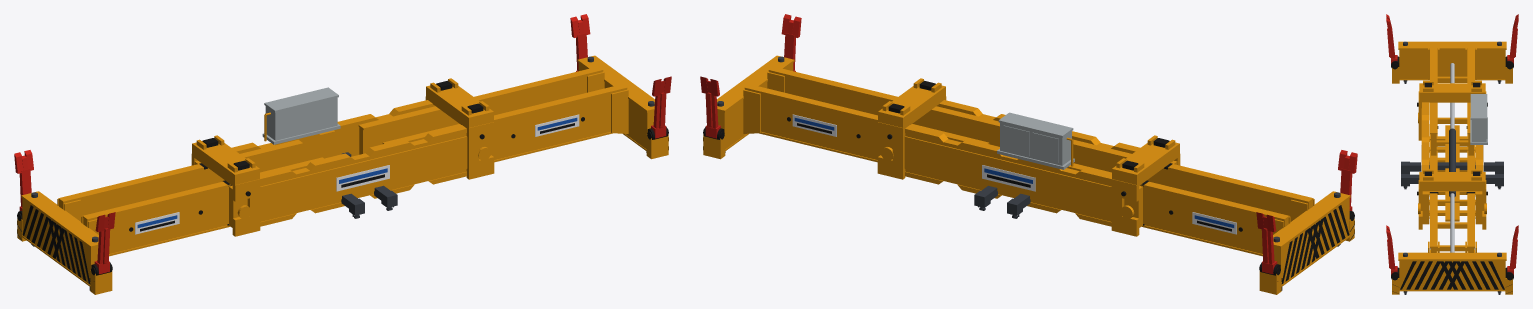
Rendered from STS_Spreader_40ft_Master.obj.
The picture shows the model from 3 angles, left to right: view 1: azimuth 30°, elevation 25°; view 2: azimuth 150°, elevation 25°; view 3: azimuth 270°, elevation 25°; orthographic projection. The views are drawn at different scales.
Parts seen in each view (by area): view 1: 01_Main_Center_Frame, 05_Telescopic_Arm_Right, 05_Telescopic_Arm_Left, 06_End_Beam_Left, 06_End_Beam_Right, 04_Hydraulic_Electrical_Cabinet, 07_Hazard_Stripes_Left, 11_Nameplates_White, 03_WearPads_And_Guides, 10_Red_Flipper_R_Front, 10_Red_Flipper_L_Front, 02_TwinLift_Center_Module (+3 smaller); view 2: 01_Main_Center_Frame, 05_Telescopic_Arm_Left, 05_Telescopic_Arm_Right, 06_End_Beam_Left, 06_End_Beam_Right, 04_Hydraulic_Electrical_Cabinet, 07_Hazard_Stripes_Left, 11_Nameplates_White, 03_WearPads_And_Guides, 10_Red_Flipper_R_Back, 10_Red_Flipper_L_Back, 02_TwinLift_Center_Module (+3 smaller); view 3: 01_Main_Center_Frame, 06_End_Beam_Left, 06_End_Beam_Right, 05_Telescopic_Arm_Left, 05_Telescopic_Arm_Right, 07_Hazard_Stripes_Right, 02_TwinLift_Center_Module, 04_Hydraulic_Electrical_Cabinet, 02_TwinLift_Center_Rods, 10_Red_Flipper_R_Back, 10_Red_Flipper_R_Front, 10_Red_Flipper_L_Back (+3 smaller).
Boxes of the visible parts, x1,y1,x2,y2 form: 01_Main_Center_Frame: [191, 78, 494, 236]; 05_Telescopic_Arm_Right: [358, 66, 627, 162]; 05_Telescopic_Arm_Left: [58, 139, 323, 256]; 06_End_Beam_Left: [17, 191, 112, 294]; 06_End_Beam_Right: [577, 55, 668, 159]; 04_Hydraulic_Electrical_Cabinet: [262, 87, 340, 144]; 07_Hazard_Stripes_Left: [17, 205, 94, 290]; 11_Nameplates_White: [135, 114, 579, 234]; 03_WearPads_And_Guides: [129, 80, 584, 231]; 10_Red_Flipper_R_Front: [651, 76, 671, 138]; 10_Red_Flipper_L_Front: [94, 212, 115, 274]; 02_TwinLift_Center_Module: [341, 152, 397, 218]; 01_Main_Center_Frame: [877, 78, 1180, 236]; 05_Telescopic_Arm_Left: [1067, 139, 1313, 256]; 05_Telescopic_Arm_Right: [744, 66, 999, 162]; 06_End_Beam_Left: [1259, 191, 1354, 294]; 06_End_Beam_Right: [703, 55, 794, 159]; 04_Hydraulic_Electrical_Cabinet: [997, 112, 1074, 169]; 07_Hazard_Stripes_Left: [1277, 205, 1354, 290]; 11_Nameplates_White: [792, 114, 1236, 234]; 03_WearPads_And_Guides: [787, 80, 1242, 231]; 10_Red_Flipper_R_Back: [700, 76, 720, 138]; 10_Red_Flipper_L_Back: [1256, 212, 1277, 274]; 02_TwinLift_Center_Module: [974, 185, 1030, 218]; 01_Main_Center_Frame: [1418, 80, 1486, 229]; 06_End_Beam_Left: [1392, 41, 1512, 83]; 06_End_Beam_Right: [1392, 241, 1512, 294]; 05_Telescopic_Arm_Left: [1430, 42, 1474, 155]; 05_Telescopic_Arm_Right: [1430, 155, 1474, 252]; 07_Hazard_Stripes_Right: [1392, 261, 1512, 293]; 02_TwinLift_Center_Module: [1401, 128, 1503, 196]; 04_Hydraulic_Electrical_Cabinet: [1470, 94, 1487, 144]; 02_TwinLift_Center_Rods: [1450, 63, 1454, 252]; 10_Red_Flipper_R_Back: [1507, 225, 1518, 274]; 10_Red_Flipper_R_Front: [1386, 225, 1397, 274]; 10_Red_Flipper_L_Back: [1507, 14, 1518, 63].
Size of the model in its own units: 12.38 by 1.95 by 3.18.
